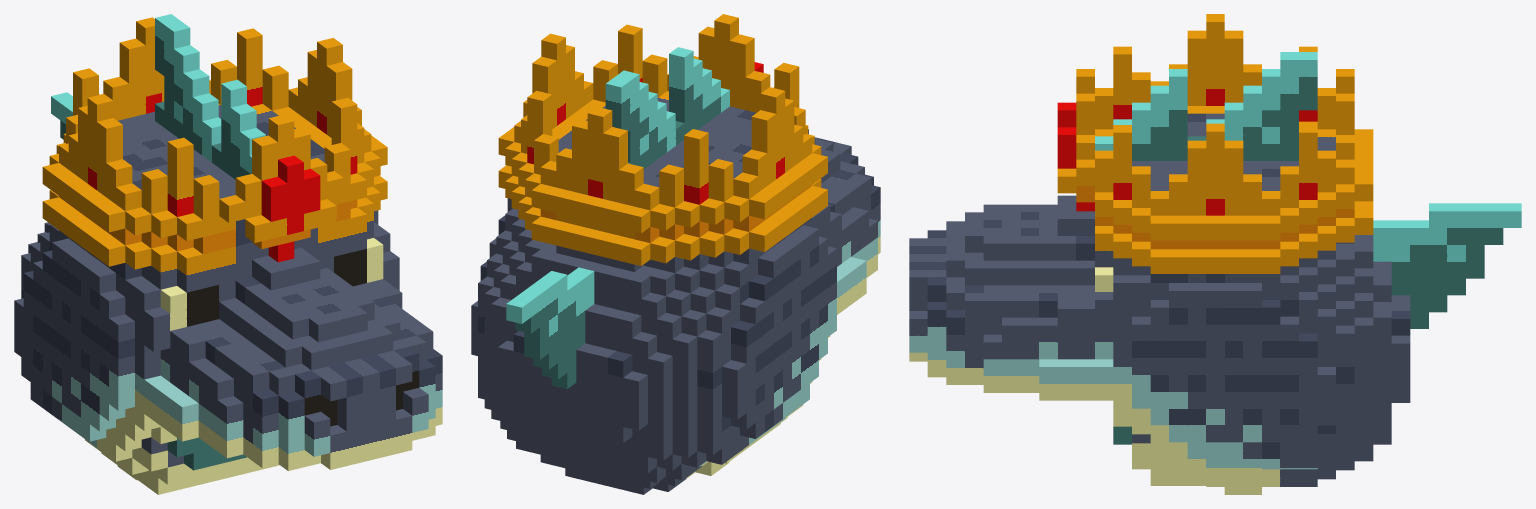
The model's file is king crown_3d glasses.gltf.
3 views of the same model, side by side, from view 1: azimuth 30°, elevation 25°; view 2: azimuth 150°, elevation 25°; view 3: azimuth 270°, elevation 25° (orthographic). The views are drawn at different scales.
Visible parts, largest first — view 1: C31_H_KingCrown_CoolDude_3DG_RBShade-Mesh; view 2: C31_H_KingCrown_CoolDude_3DG_RBShade-Mesh; view 3: C31_H_KingCrown_CoolDude_3DG_RBShade-Mesh.
Part boxes in pixels (bbox=[...]): C31_H_KingCrown_CoolDude_3DG_RBShade-Mesh: bbox=[14, 14, 442, 494]; C31_H_KingCrown_CoolDude_3DG_RBShade-Mesh: bbox=[471, 14, 880, 494]; C31_H_KingCrown_CoolDude_3DG_RBShade-Mesh: bbox=[909, 14, 1521, 494].
Bounding box in the file's own units: 17 × 24 × 33.
1 material, 1 textured.
